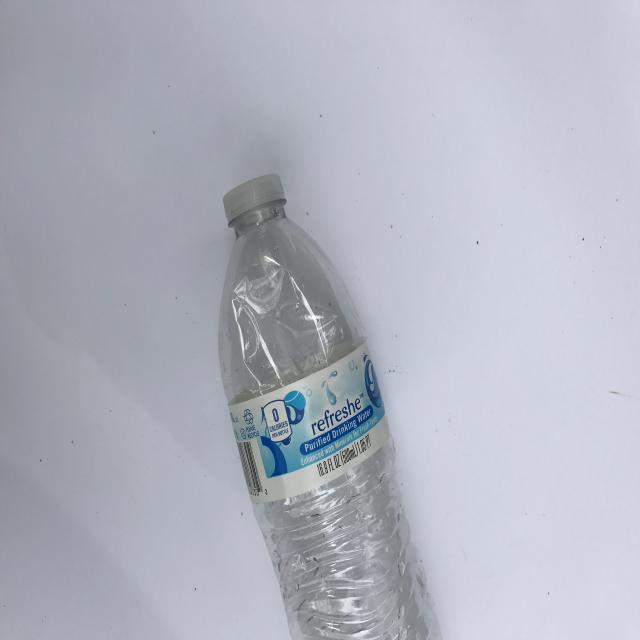plastic: (213, 171, 442, 640)
